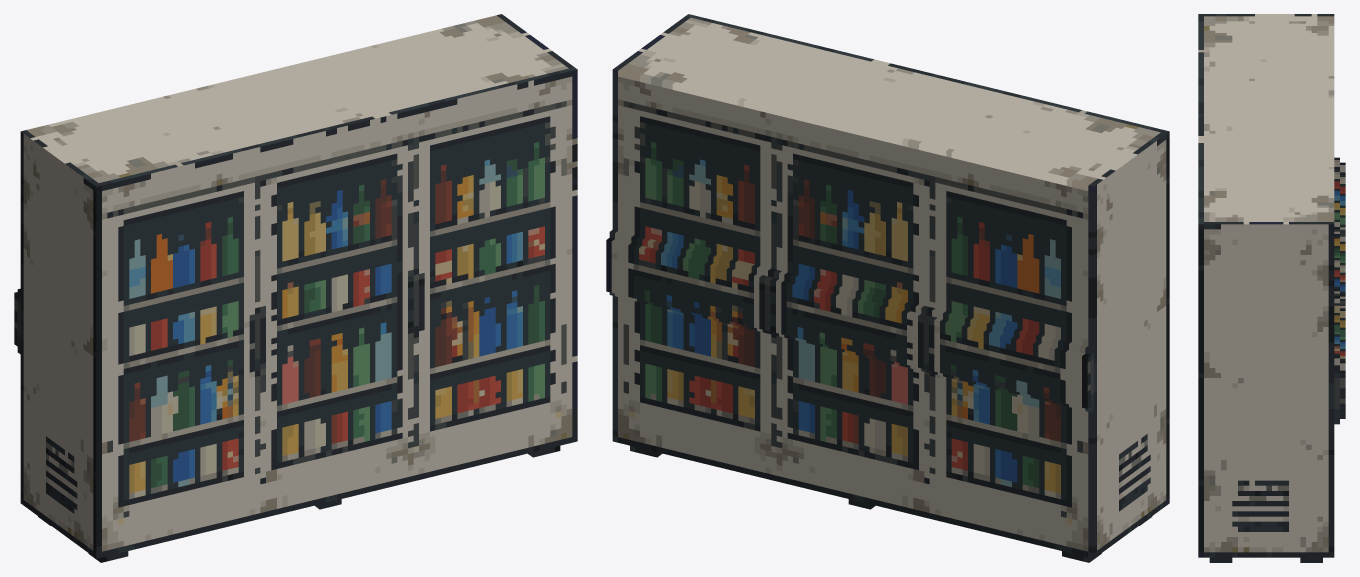
The model's file is city_mart_fridge.glb.
3 views of the same model, side by side, from view 1: azimuth 30°, elevation 25°; view 2: azimuth 150°, elevation 25°; view 3: azimuth 270°, elevation 25° (orthographic). The views are drawn at different scales.
Parts seen in each view (by area): view 1: city_mart_fridge; view 2: city_mart_fridge; view 3: city_mart_fridge.
Boxes of the visible parts, left/top/right/bottom form: city_mart_fridge: left=14, top=14, right=577, bottom=562; city_mart_fridge: left=606, top=14, right=1169, bottom=562; city_mart_fridge: left=1198, top=14, right=1345, bottom=562.
Bounding box in the file's own units: 2.75 × 2.09 × 0.8125.
